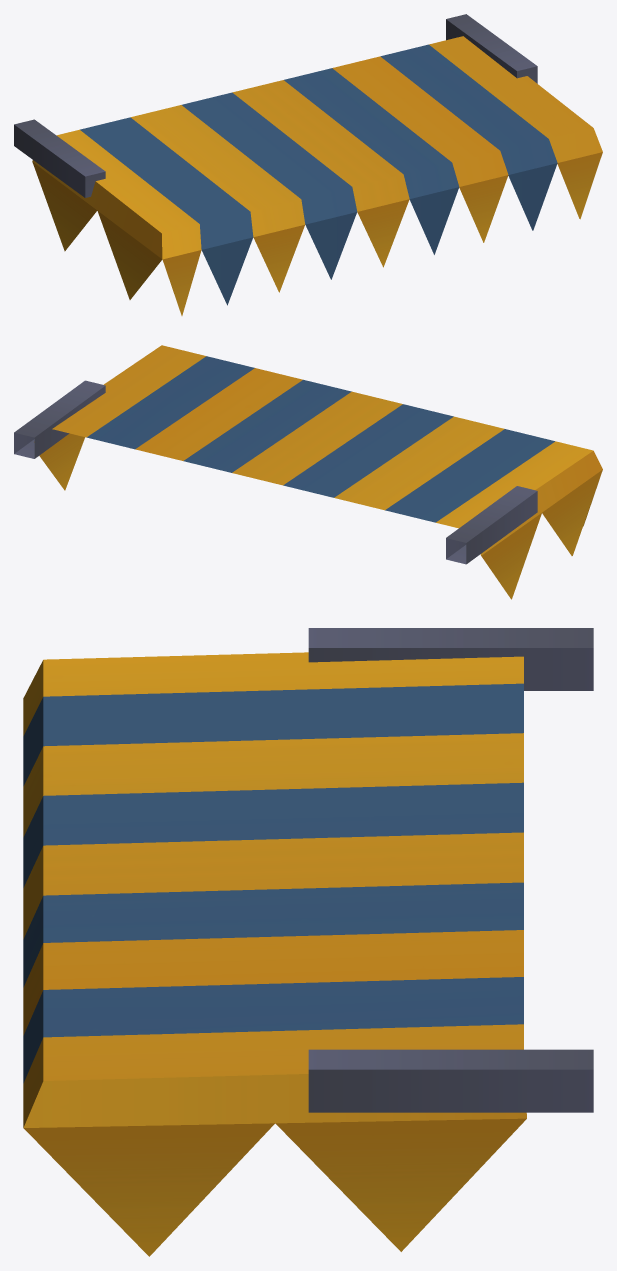
Rendered from SM_Shed_2B.FBX.
3 renders of one model, top to bottom at view 1: azimuth 30°, elevation 25°; view 2: azimuth 150°, elevation 25°; view 3: azimuth 270°, elevation 25°, orthographic. The views are drawn at different scales.
Visible parts, largest first — view 1: SM_Shed_2B; view 2: SM_Shed_2B; view 3: SM_Shed_2B.
Part boxes in pixels (bbox=[...]): SM_Shed_2B: bbox=[14, 14, 602, 315]; SM_Shed_2B: bbox=[14, 345, 602, 599]; SM_Shed_2B: bbox=[23, 628, 593, 1256].
Size of what is drawn, in the model's own units: 419 by 229 by 85.02.
